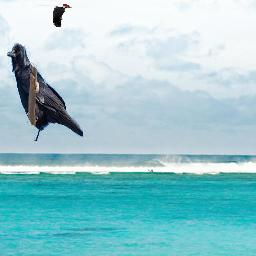Crow: (7, 43, 83, 142)
Woodpecker: (54, 3, 73, 27)
